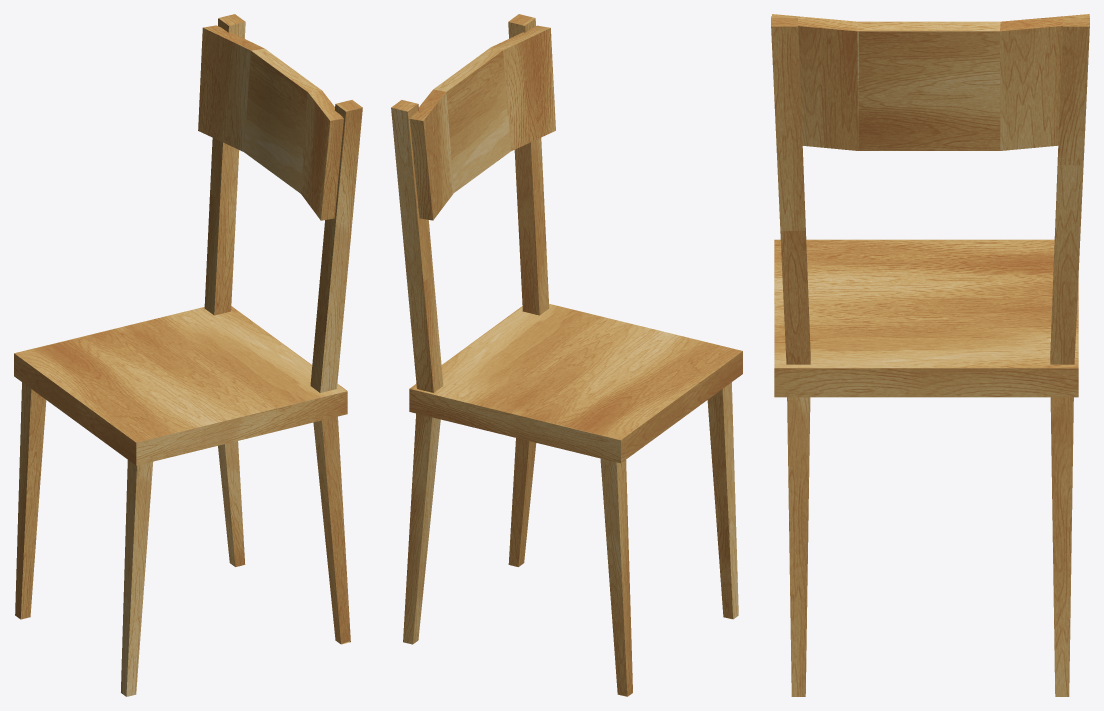
File: krzeslozwykle.fbx
3 views of the same model, side by side, from view 1: azimuth 30°, elevation 25°; view 2: azimuth 150°, elevation 25°; view 3: azimuth 270°, elevation 25° (orthographic). The views are drawn at different scales.
Parts seen in each view (by area): view 1: Box004; view 2: Box004; view 3: Box004.
Boxes of the visible parts, x1=… form: Box004: x1=14, y1=14, x2=362, y2=696; Box004: x1=391, y1=14, x2=742, y2=696; Box004: x1=771, y1=14, x2=1089, y2=696.
Size of the model in its own units: 0.8656 by 1.96 by 0.8406.
